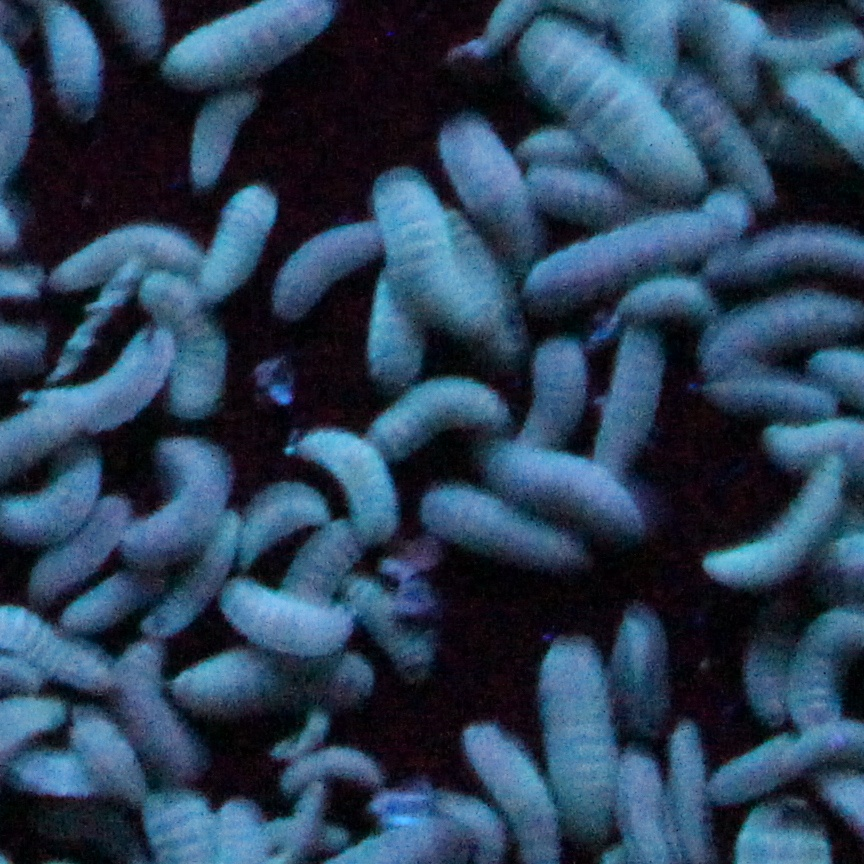larve: (534, 37, 682, 182), (538, 630, 623, 841), (276, 199, 378, 325), (471, 448, 630, 519), (711, 491, 813, 595), (382, 170, 453, 319), (185, 655, 399, 703), (216, 582, 365, 650), (380, 382, 501, 454), (142, 441, 212, 556), (197, 185, 275, 285), (601, 328, 664, 450), (526, 339, 594, 450), (695, 374, 840, 421), (54, 223, 196, 270), (668, 724, 715, 861), (796, 601, 849, 719), (466, 729, 534, 816), (29, 372, 169, 413), (169, 303, 222, 410), (179, 96, 253, 170), (749, 602, 792, 729), (729, 810, 831, 861), (142, 795, 218, 860), (122, 661, 174, 754), (628, 601, 664, 733), (342, 430, 385, 540), (563, 234, 699, 268), (474, 526, 580, 569), (248, 476, 299, 561), (711, 99, 758, 190), (624, 755, 662, 856), (73, 580, 165, 620), (220, 800, 273, 860), (364, 322, 416, 381), (76, 716, 123, 781), (613, 280, 693, 318), (282, 755, 379, 781), (306, 536, 345, 576)
